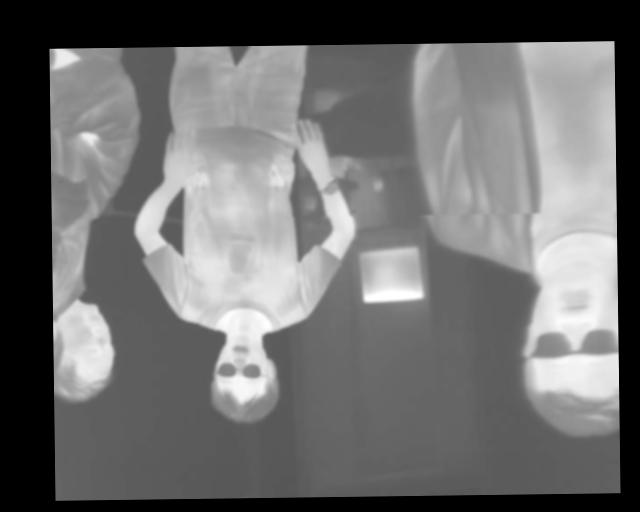face: (518, 265, 619, 439), (210, 331, 278, 425)
